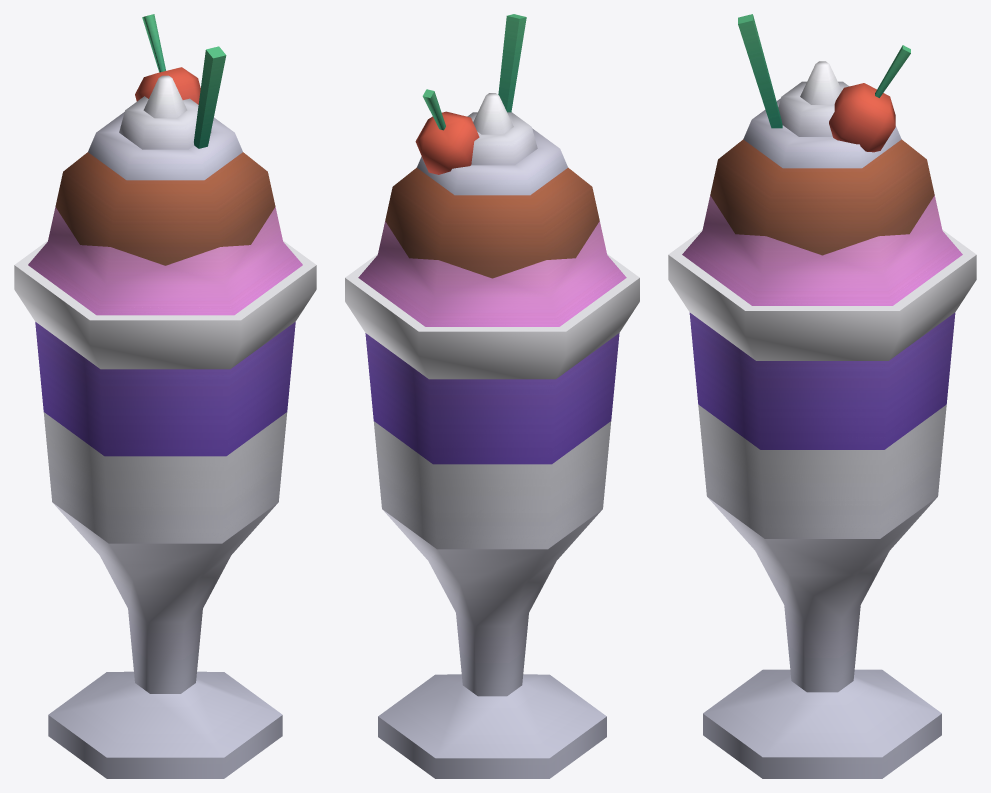
The model's file is milkshake.glb.
The picture shows the model from 3 angles, left to right: view 1: azimuth 30°, elevation 25°; view 2: azimuth 150°, elevation 25°; view 3: azimuth 270°, elevation 25°; orthographic projection. The views are drawn at different scales.
Parts seen in each view (by area): view 1: dish; view 2: dish; view 3: dish.
Boxes of the visible parts, box(x1,y1,x2,y2) form: dish: box(14, 14, 316, 778); dish: box(345, 14, 639, 778); dish: box(668, 14, 976, 778).
Size of the model in its own units: 0.0693 by 0.2073 by 0.08.
Materials: 1 (1 with a texture image).
